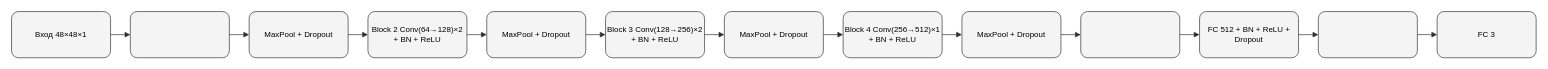
Image size: 1548x69. Some labels were removed from this diagram. The box of each missing label's shape, as (x1, y1, x2, y2) in pixels:
Block 1 Conv(1→64)×2 + BN + ReLU: (130, 11, 229, 58)
FC 256 + BN + ReLU + Dropout: (1318, 11, 1417, 58)
Flatten: (1080, 11, 1180, 58)
